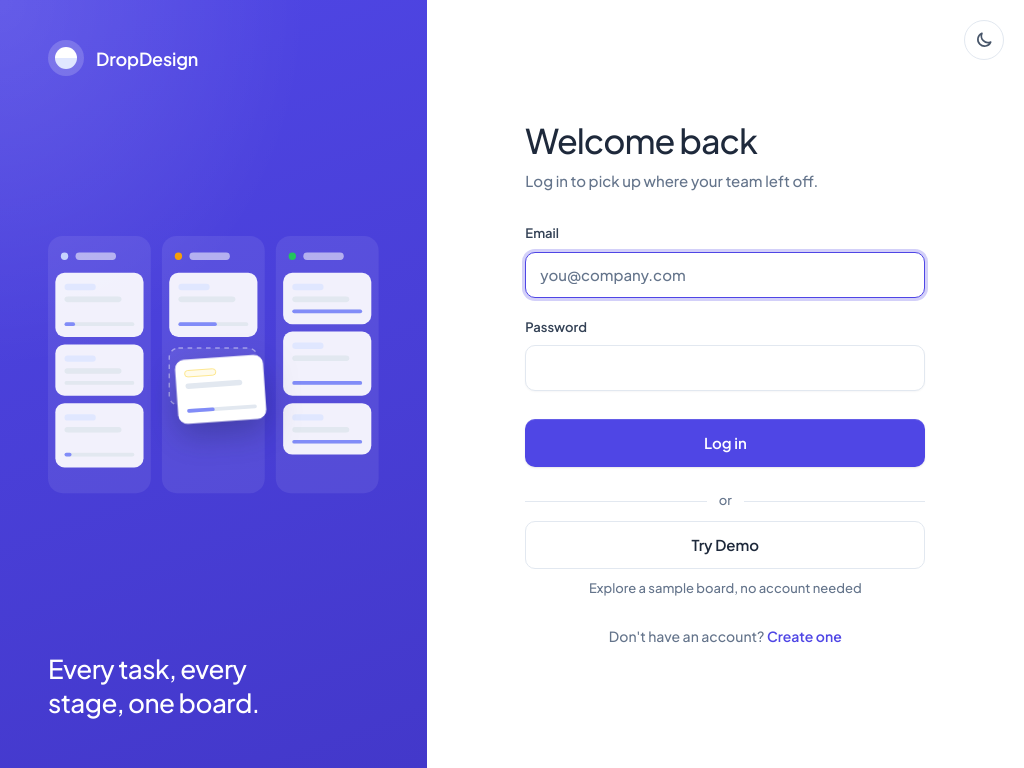
Test: AuthPage: Try Demo › explains when the server cannot be reached
What coordinates should you click on to do the following:
click the button "Try Demo"
I would click on:
 (725, 545)
Its box is [525,521,925,569].
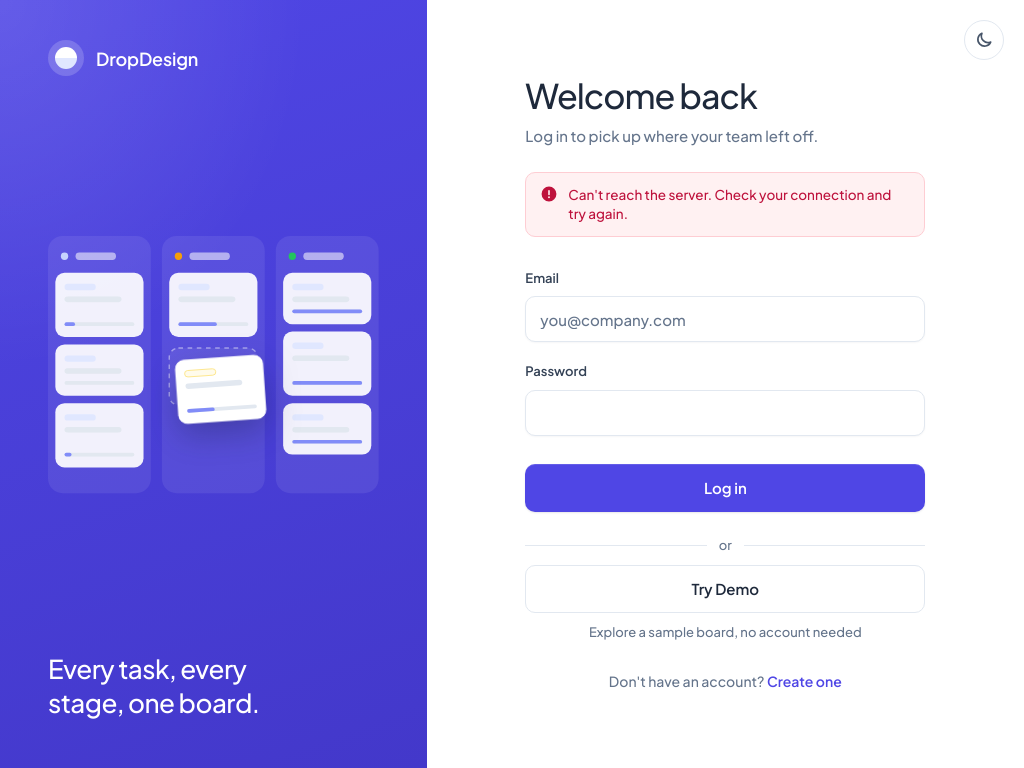
Expected: the message shows "Can't reach the server", [568,186,891,222]
